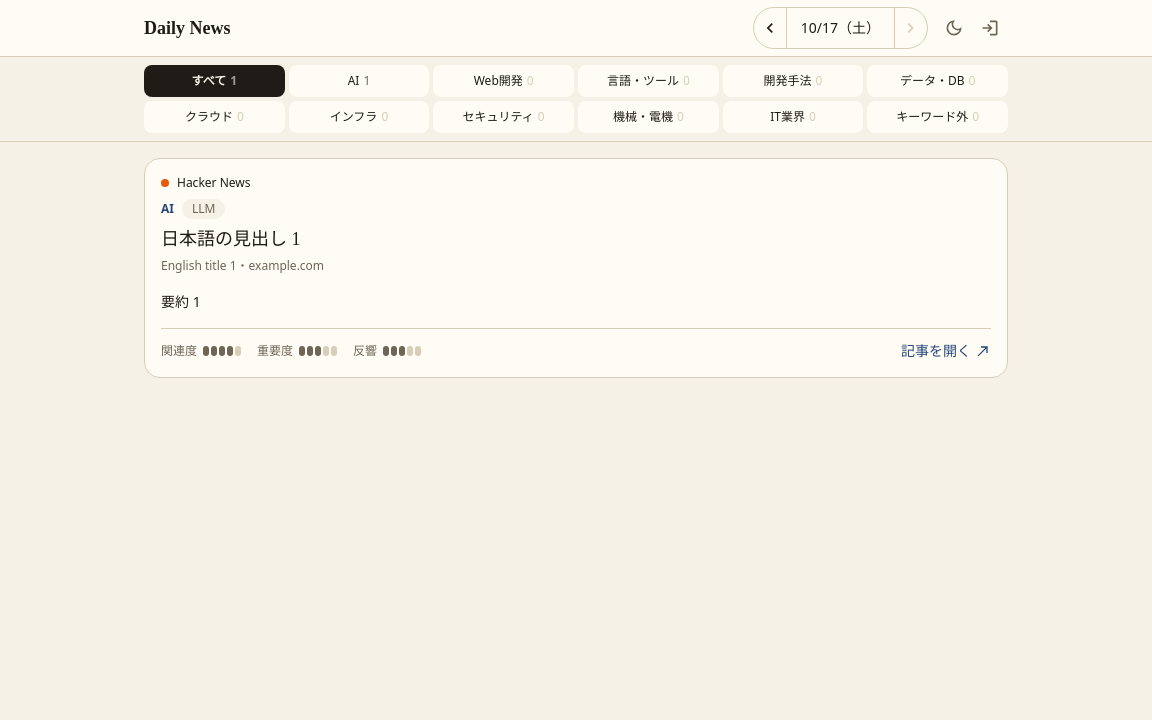
Test: カレンダー › いちばん新しい日は押せて、それより後は押せない（範囲の境界は dates.test.ts）
Expected: the link "日本語の見出し 1" is shown, [161,229,300,249]
Click the button "10/17（土）": point(840, 28) [786,8,895,48]
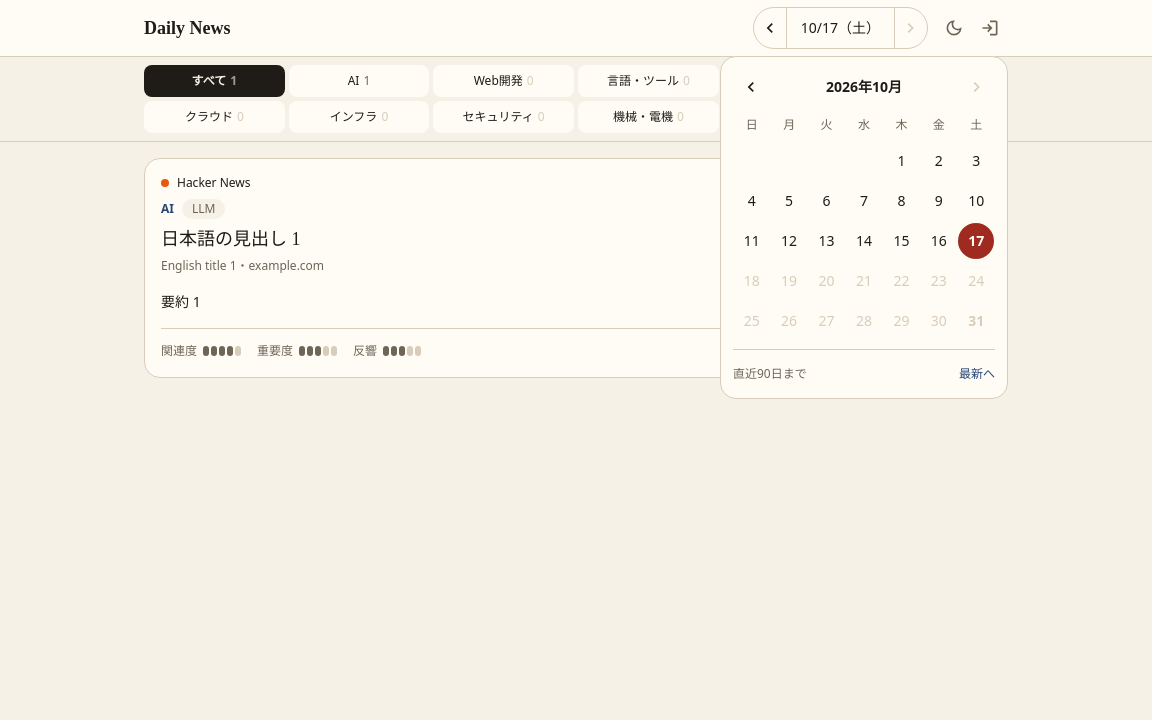
Result: the button named "10月17日" is enabled at [958,223,994,259]
Result: the button named "10月18日" is disabled at [734,263,770,299]
